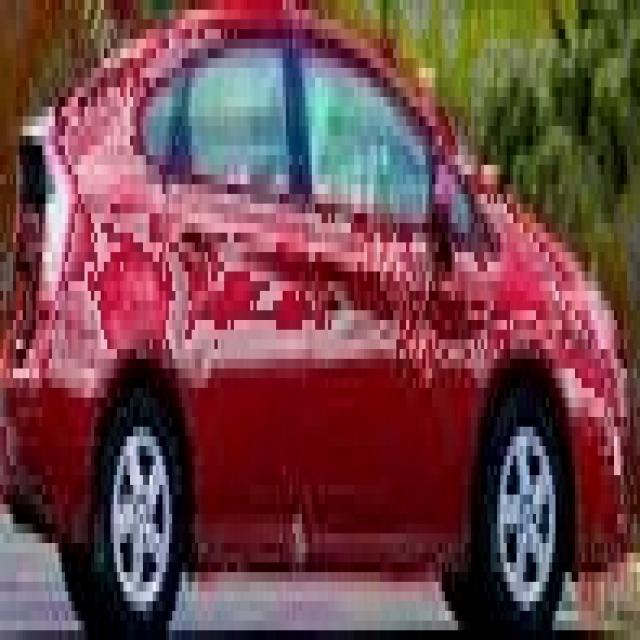maroon: (0, 29, 631, 630)
